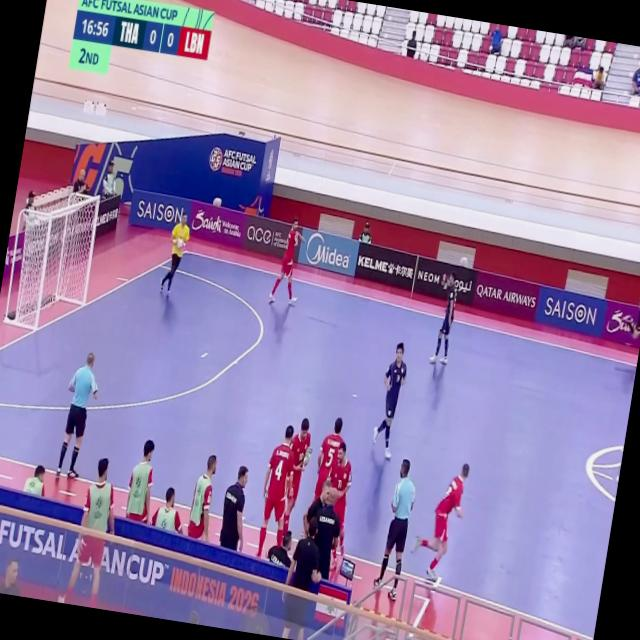keeper: (160, 215, 190, 295)
referee: (374, 460, 415, 599), (57, 353, 98, 478)
